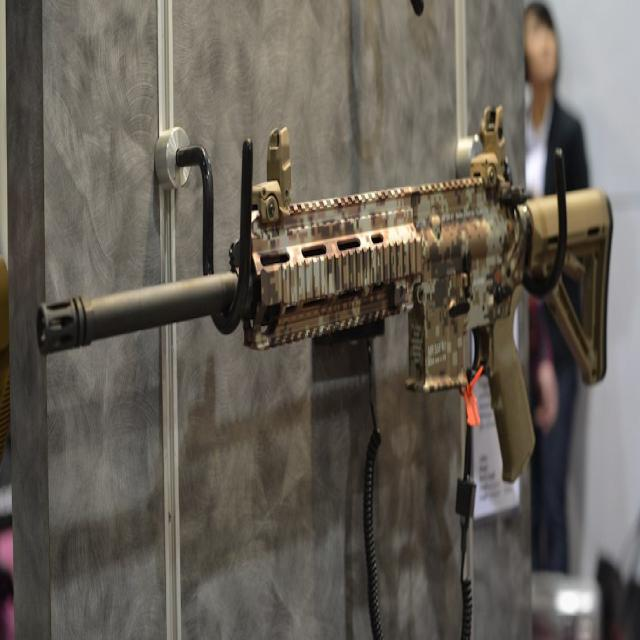firearm: (37, 102, 612, 482)
